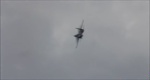maybay_muctieu: (72, 18, 85, 53)
